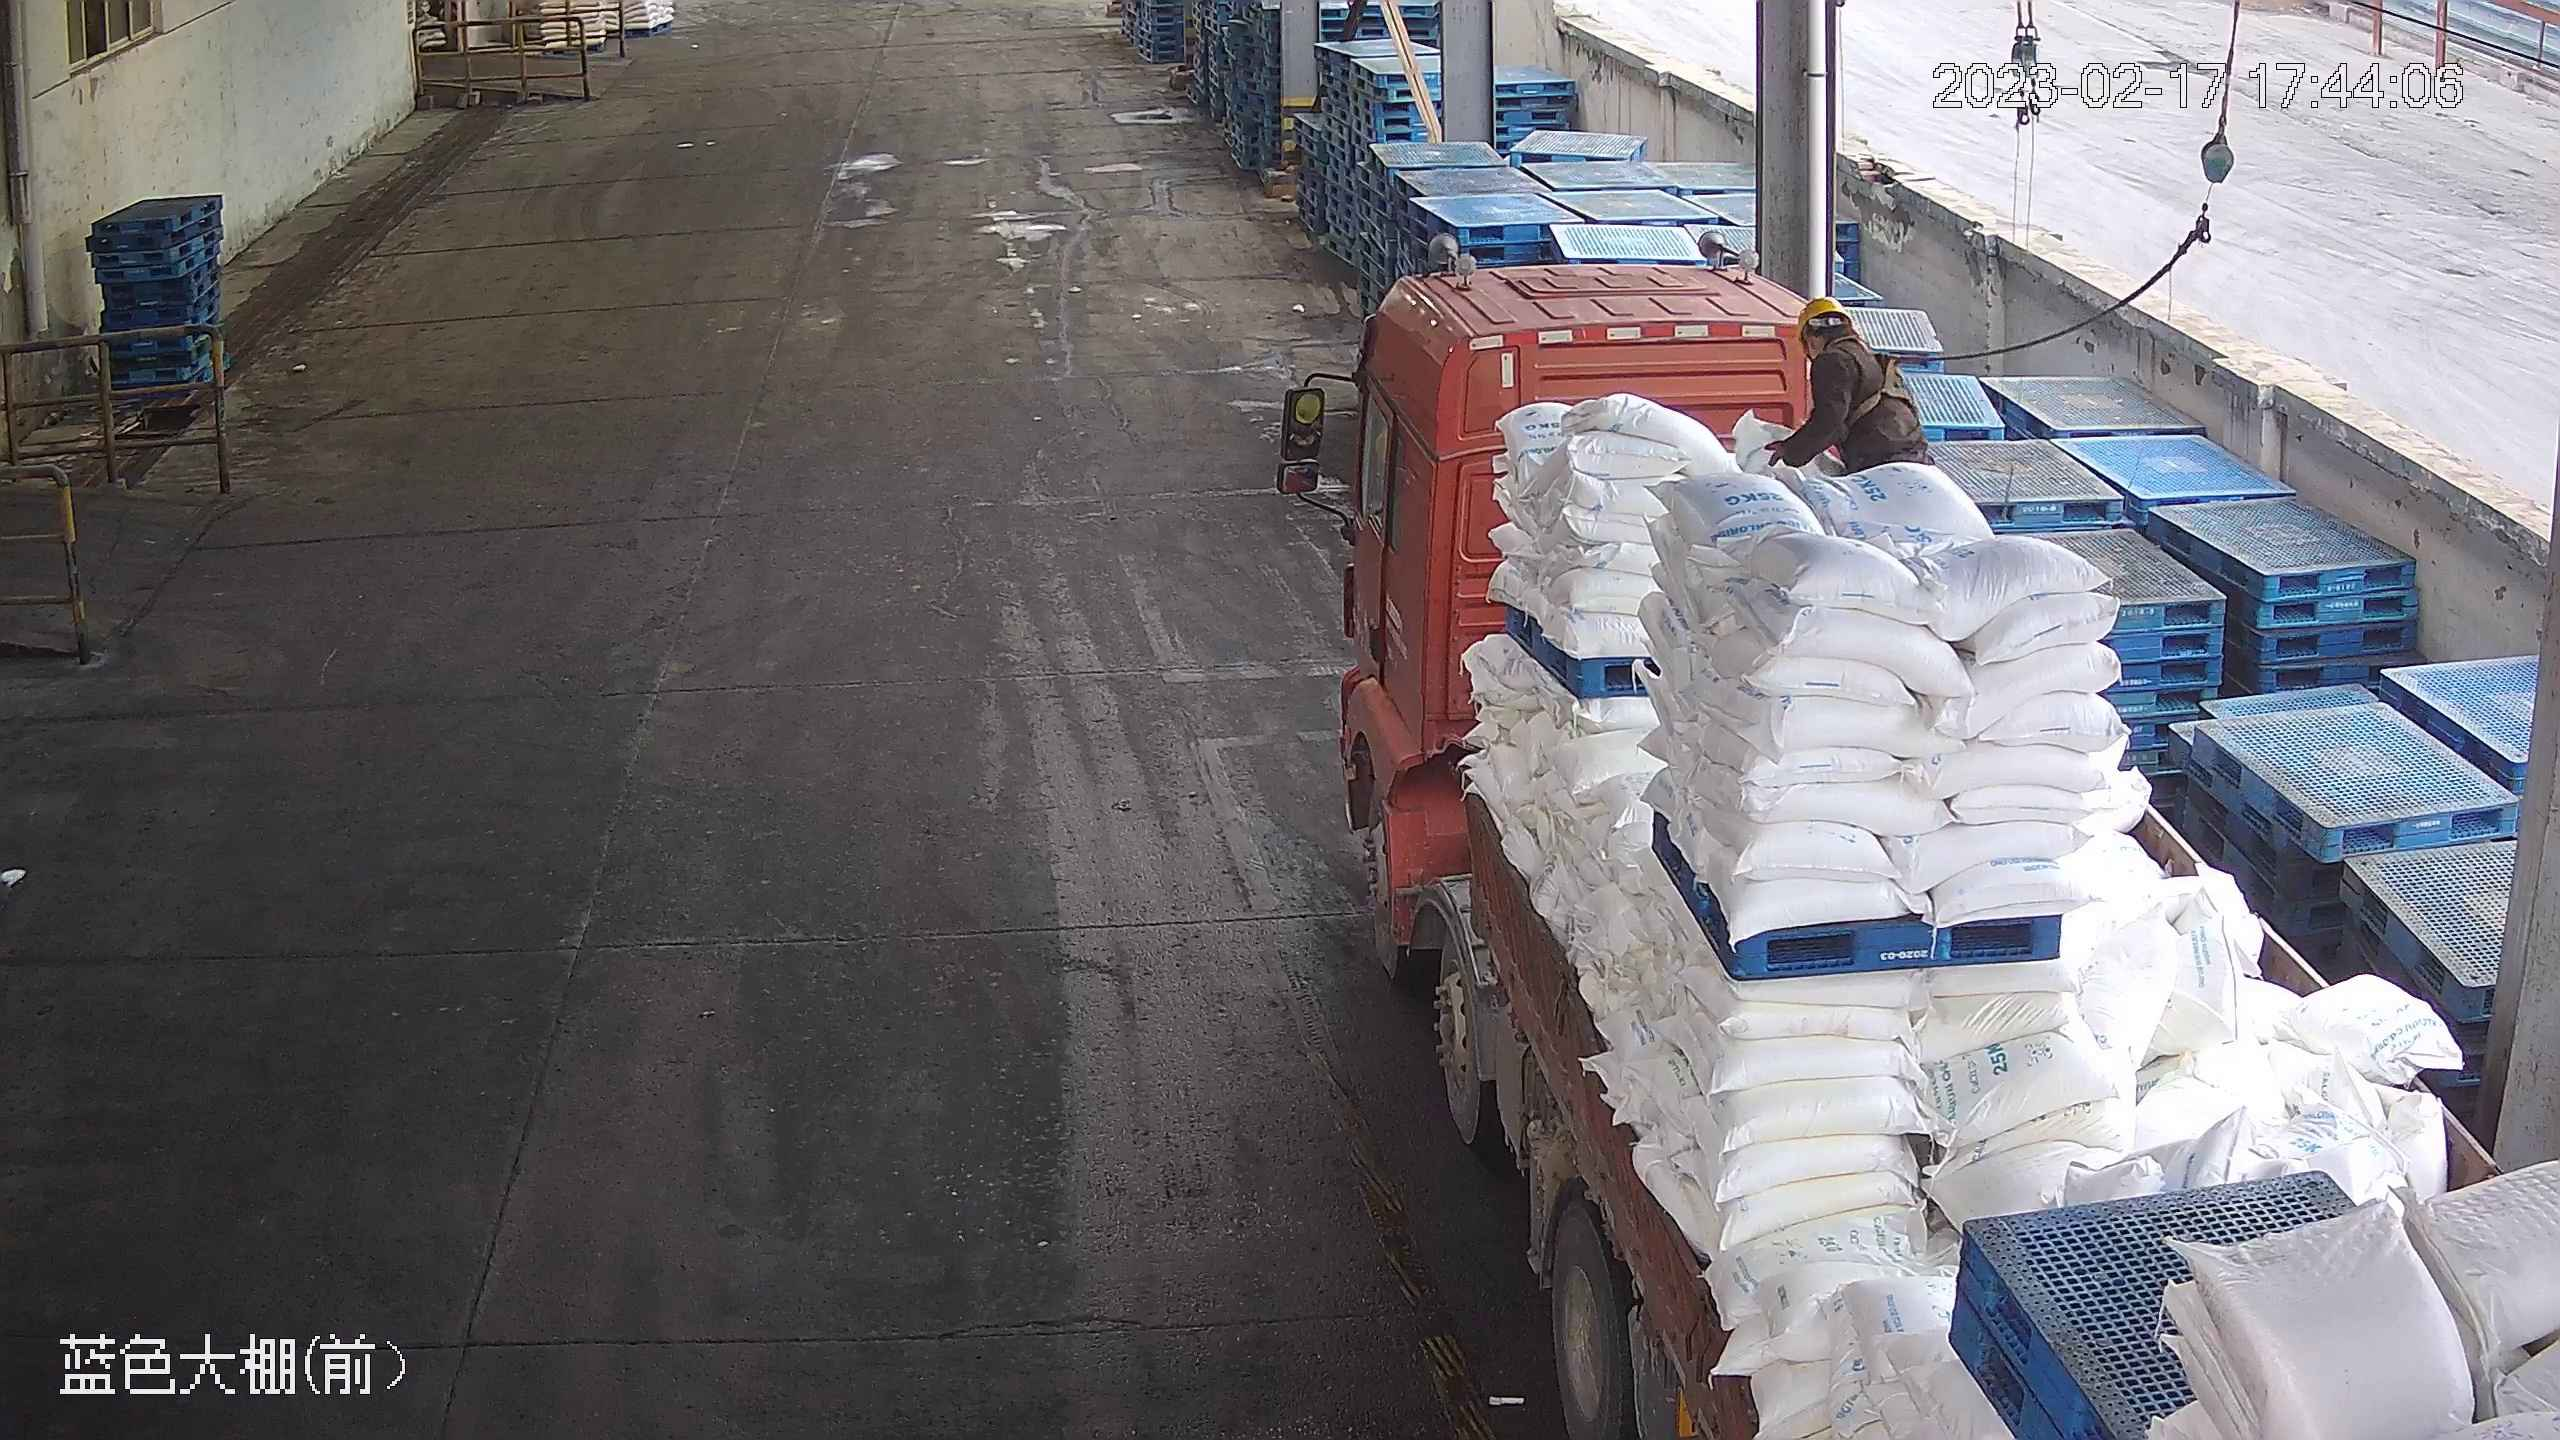head: (1781, 297, 1919, 429)
helmet: (1829, 338, 1919, 430), (1796, 295, 1854, 341)
truck: (1262, 240, 2560, 1440)
